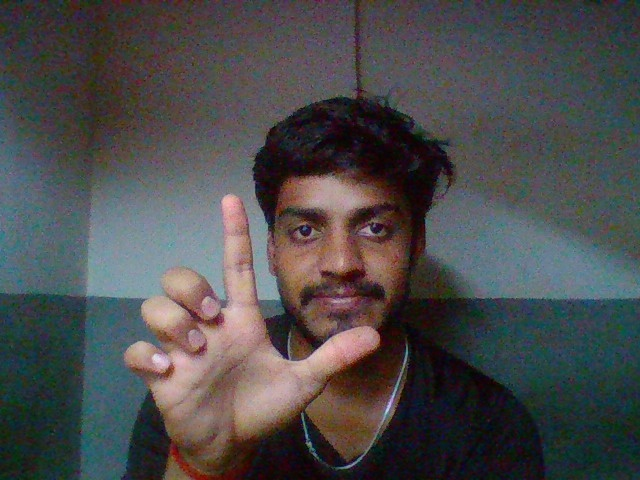L: (123, 191, 387, 456)
